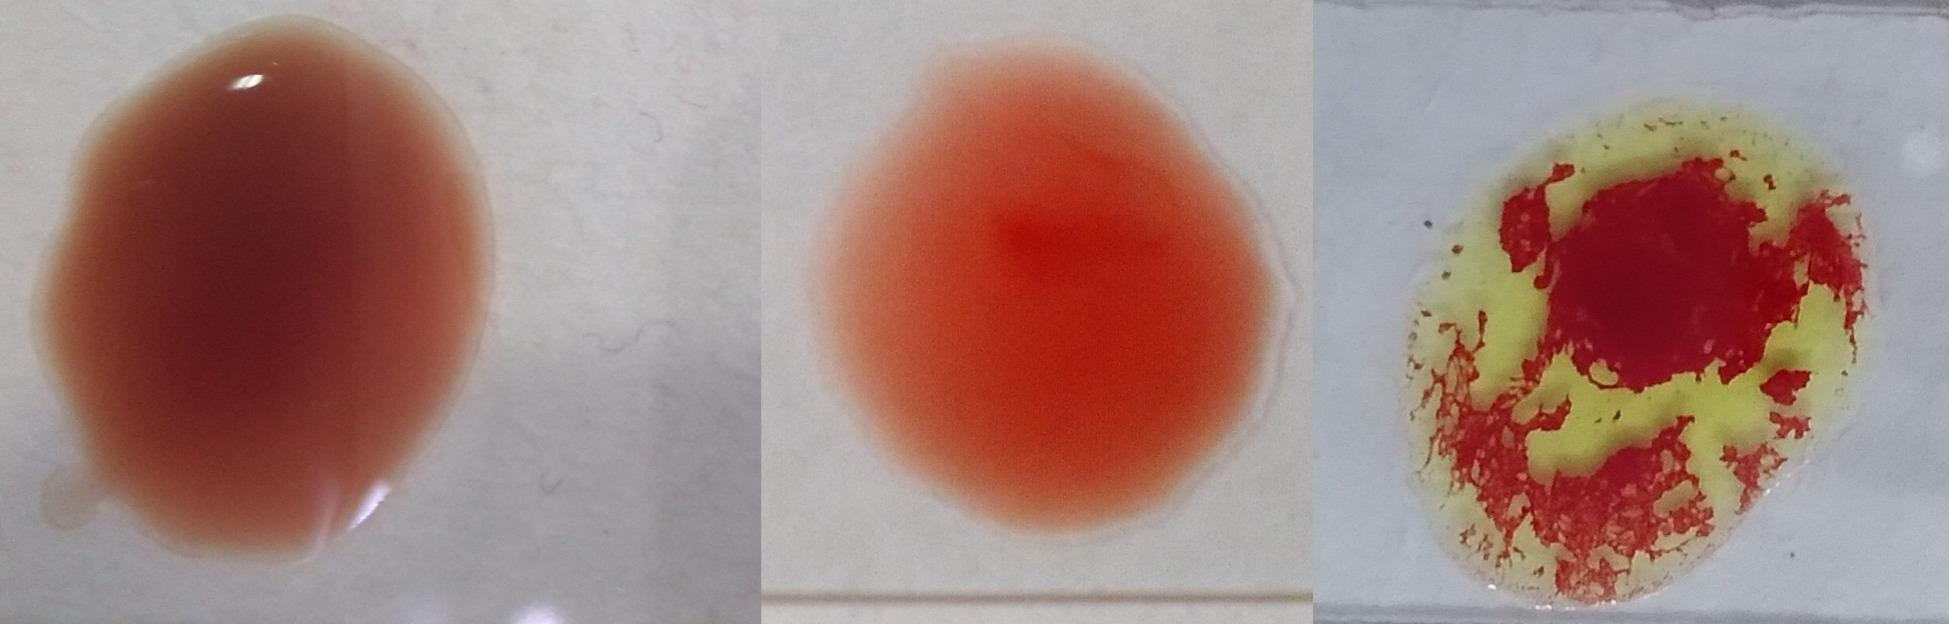B: (1388, 112, 1863, 594)
